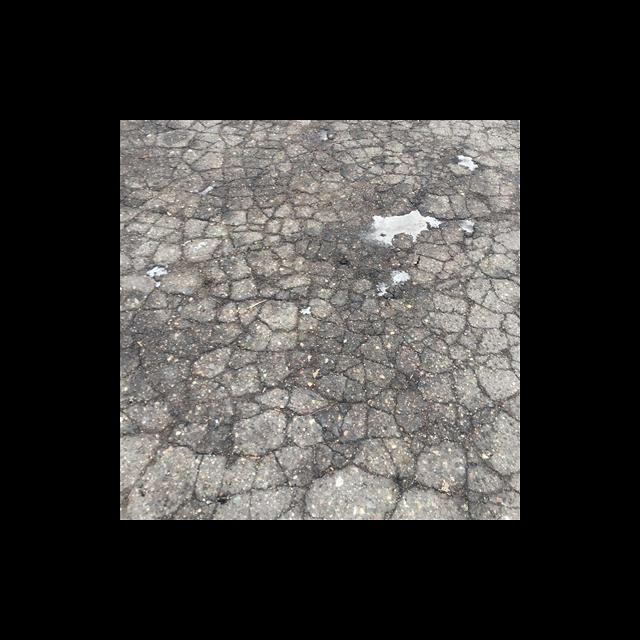retak_kulit_buaya: (136, 252, 520, 519), (129, 120, 355, 307), (276, 120, 449, 198)
